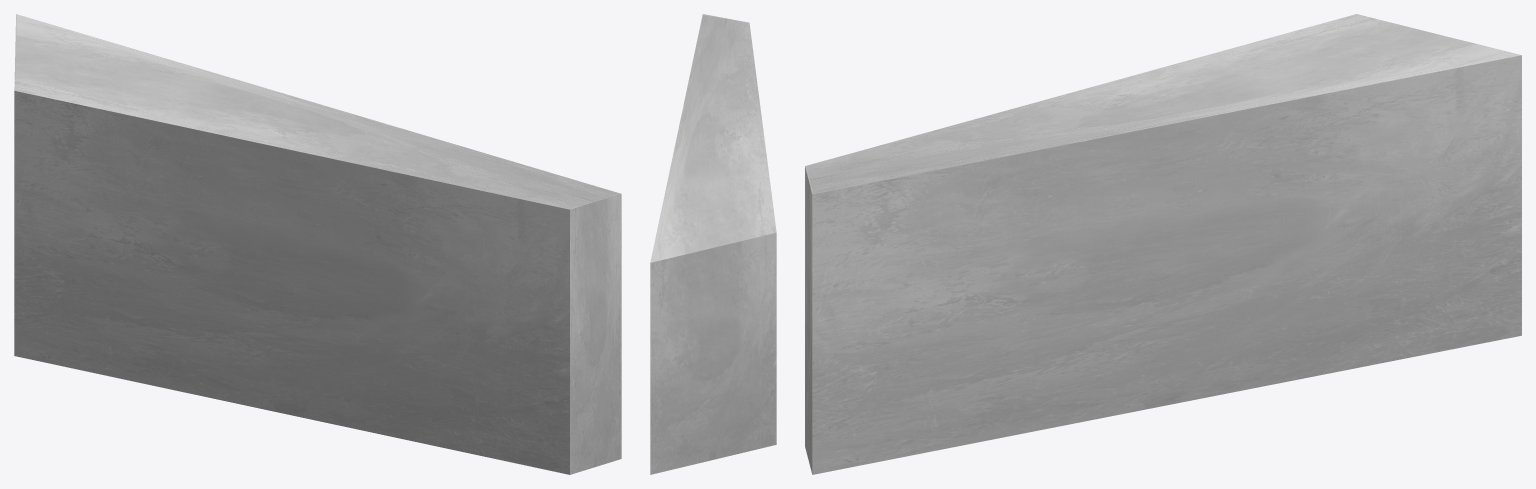
The model's file is blanc6.FBX.
3 views of the same model, side by side, from view 1: azimuth 30°, elevation 25°; view 2: azimuth 150°, elevation 25°; view 3: azimuth 270°, elevation 25° (orthographic). The views are drawn at different scales.
Parts seen in each view (by area): view 1: Boîte064; view 2: Boîte064; view 3: Boîte064.
Part boxes in pixels (x1,y1,x2,y2): Boîte064: (14,14,621,474); Boîte064: (650,14,776,474); Boîte064: (805,14,1521,474).
Size of the model in its own units: 7.49 by 5.43 by 12.57.
Materials: 1 (1 with a texture image).
